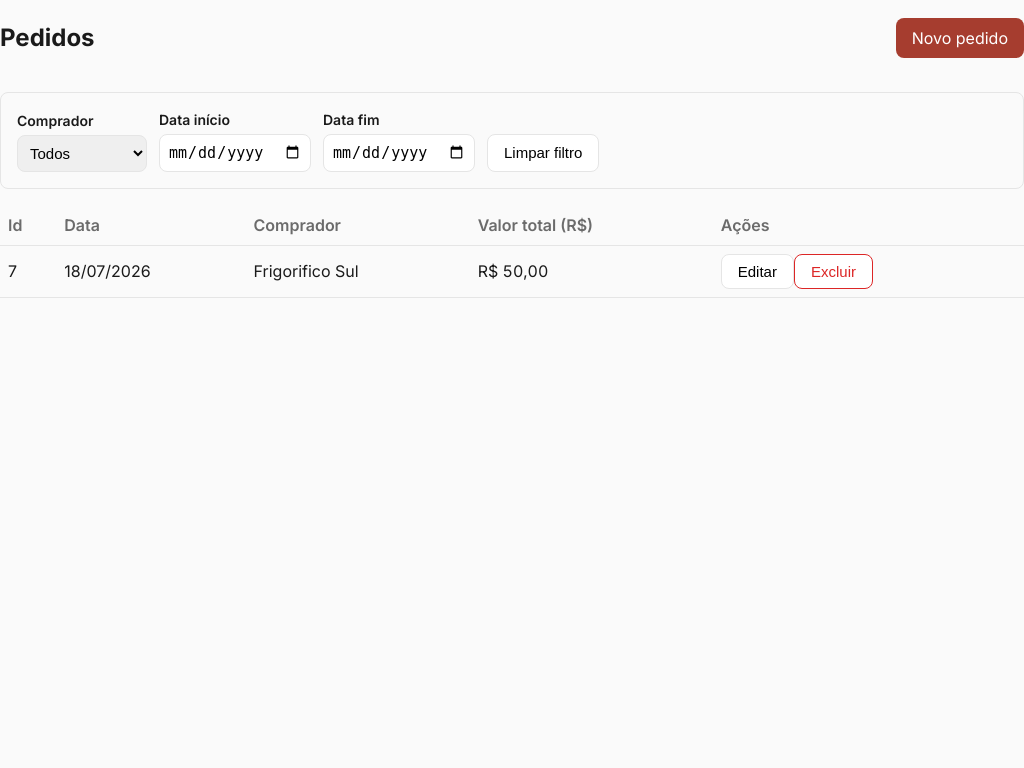
Scenario: PedidosListPage › cancelar o modal de exclusao NAO dispara requisicao
Expected: the cell "Frigorifico Sul" is shown, [246,245,470,297]
Step 1. Click the button "Excluir" → [834, 271], box [794,254,873,289]
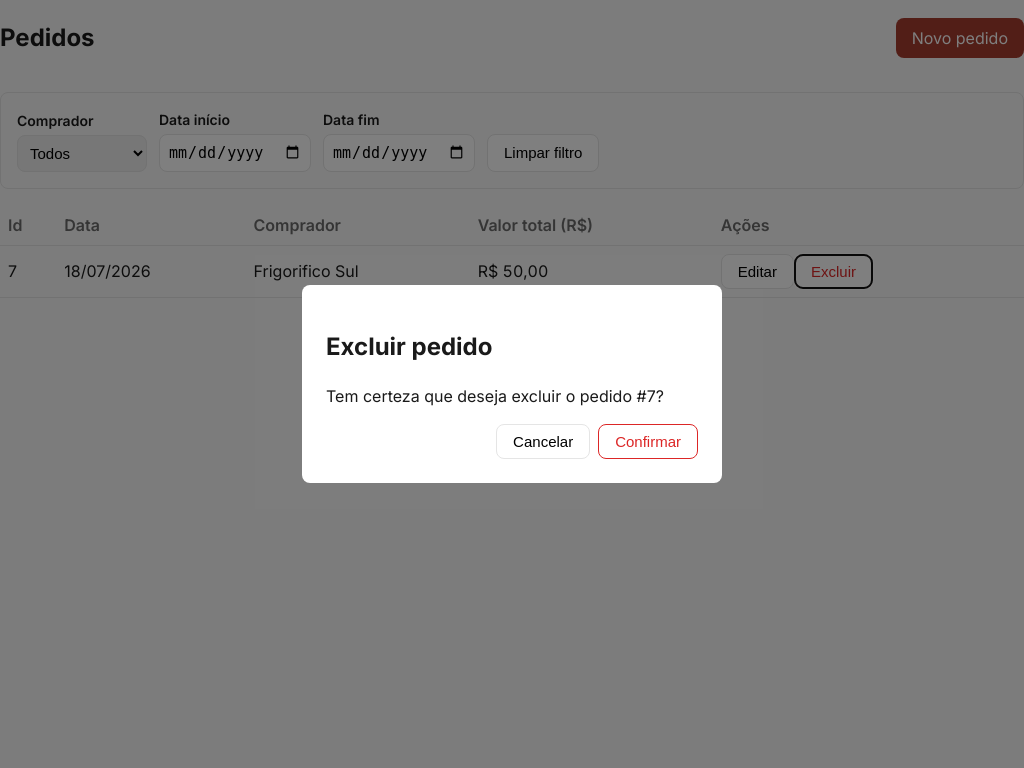
Step 2. Click the button "Cancelar" → [543, 442], box [496,424,590,459]
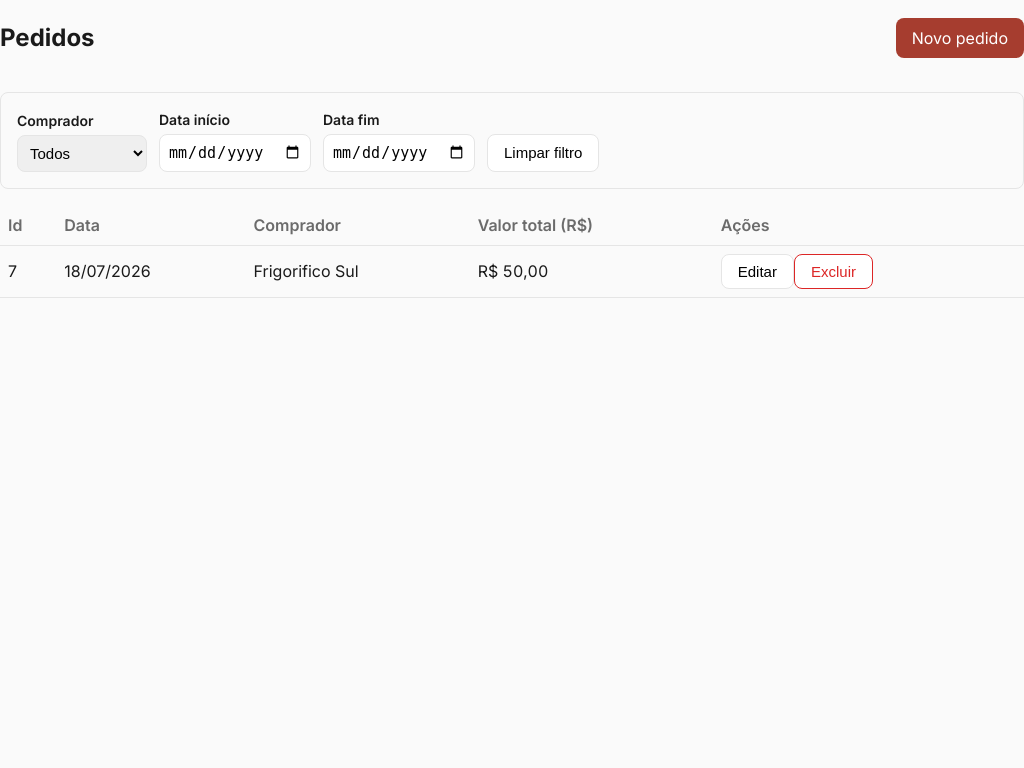
Result: the dialog is gone
